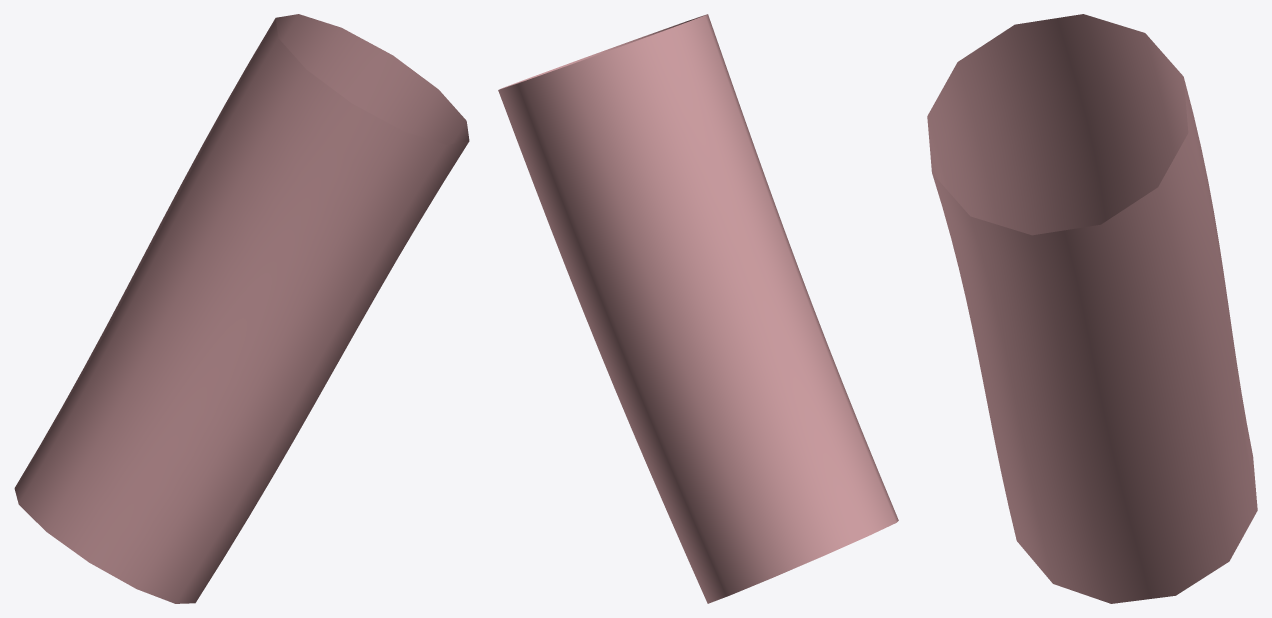
The picture shows the model from 3 angles, left to right: view 1: azimuth 30°, elevation 25°; view 2: azimuth 150°, elevation 25°; view 3: azimuth 270°, elevation 25°; orthographic projection. The views are drawn at different scales.
Parts seen in each view (by area): view 1: ZA_5aadb2c8fb7141ec; view 2: ZA_5aadb2c8fb7141ec; view 3: ZA_5aadb2c8fb7141ec.
Boxes of the visible parts, x1,y1,x2,y2 form: ZA_5aadb2c8fb7141ec: [14, 14, 469, 603]; ZA_5aadb2c8fb7141ec: [498, 14, 898, 603]; ZA_5aadb2c8fb7141ec: [927, 14, 1257, 603].
Size of the model in its own units: 0.0298 by 0.0388 by 0.0184.
